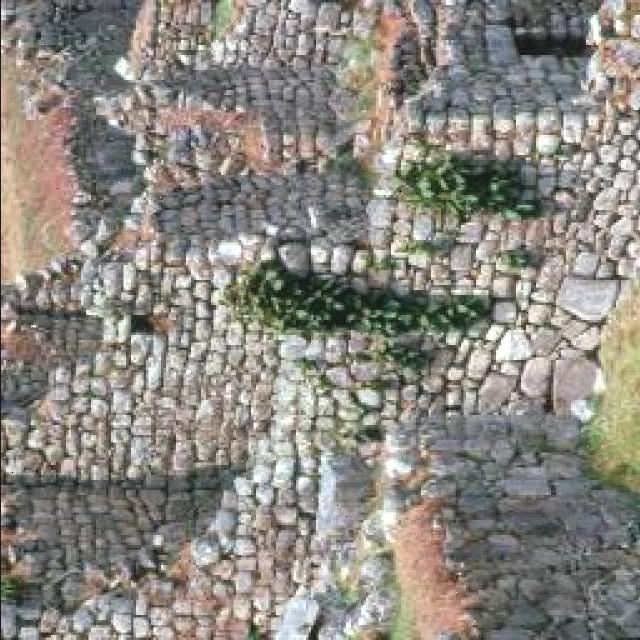crack: (3, 2, 640, 640), (5, 0, 160, 307), (555, 275, 620, 323), (482, 23, 522, 68), (363, 195, 396, 237), (277, 241, 313, 276), (607, 216, 637, 247), (571, 250, 604, 277), (448, 245, 477, 274), (561, 112, 588, 143), (592, 187, 623, 214), (329, 244, 355, 276), (315, 3, 343, 31), (410, 214, 436, 243), (470, 113, 493, 143), (491, 275, 518, 300), (309, 244, 333, 269)
dampness: (0, 459, 308, 637), (2, 298, 258, 485)
vegetation: (231, 248, 604, 390), (388, 150, 539, 226), (236, 264, 366, 335), (72, 588, 150, 636), (494, 247, 535, 272)
